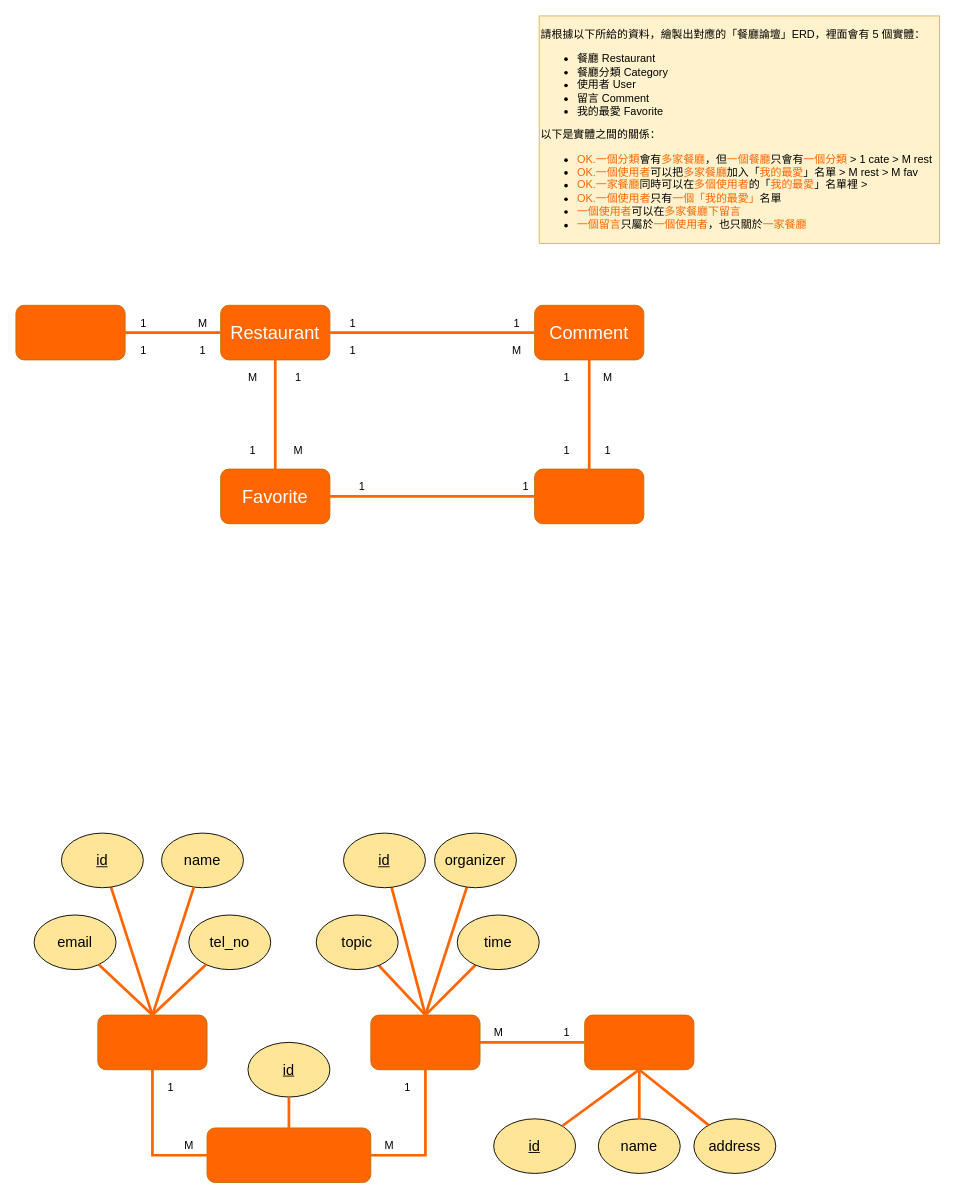
This 956x1198 diagram has some shape labels left out. The box of each missing label's shape, as (x1, y1, x2, y2) in pixels:
Category: (15, 304, 125, 360)
Event: (370, 1014, 480, 1070)
Participant: (97, 1014, 207, 1070)
ParticipatedEvent: (206, 1127, 371, 1183)
User: (534, 468, 644, 524)
Venue: (584, 1014, 694, 1070)
